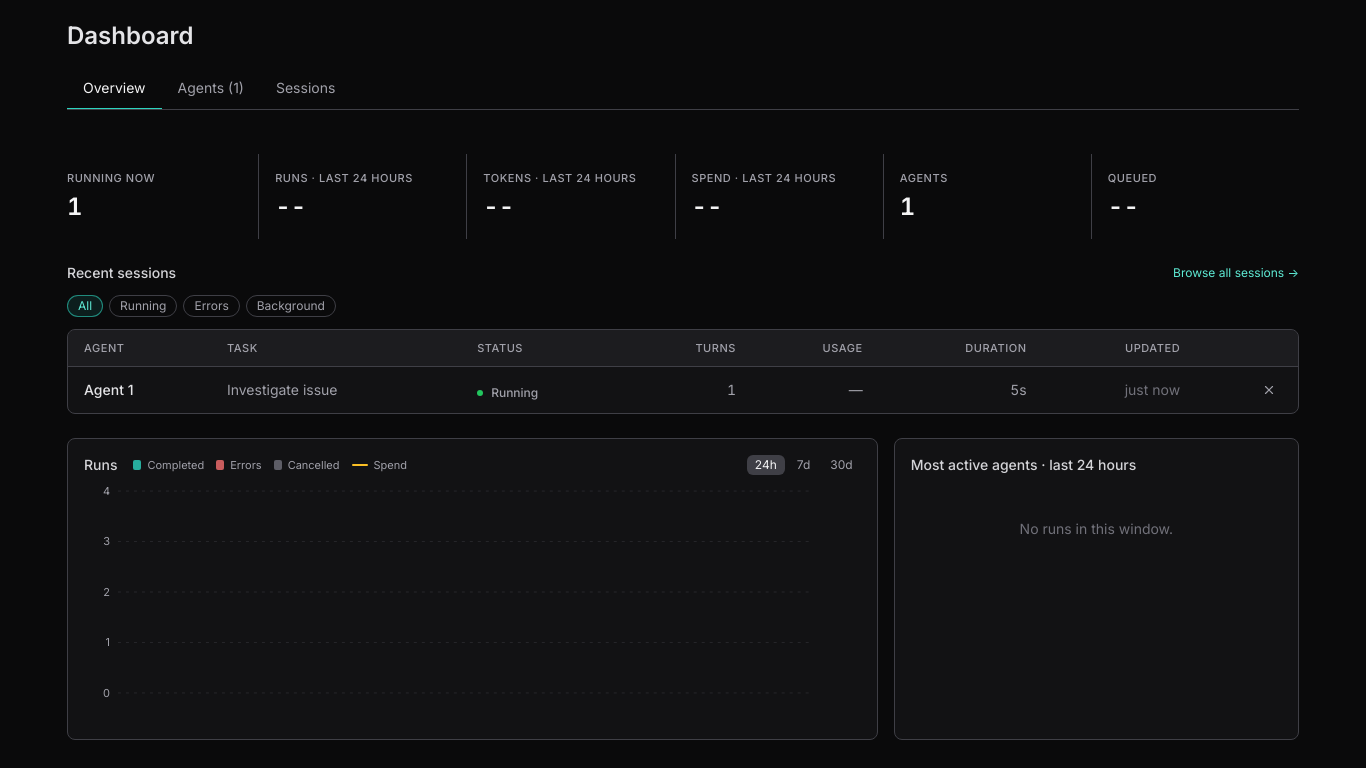
Scenario: DashboardPage › switches to the sessions tab and loads the session browser
This screenshot has width=1366, height=768.
Click the button with test id "dashboard-tab-sessions" at {"x": 306, "y": 89}, box top-left (260, 68), bottom-right (351, 110)
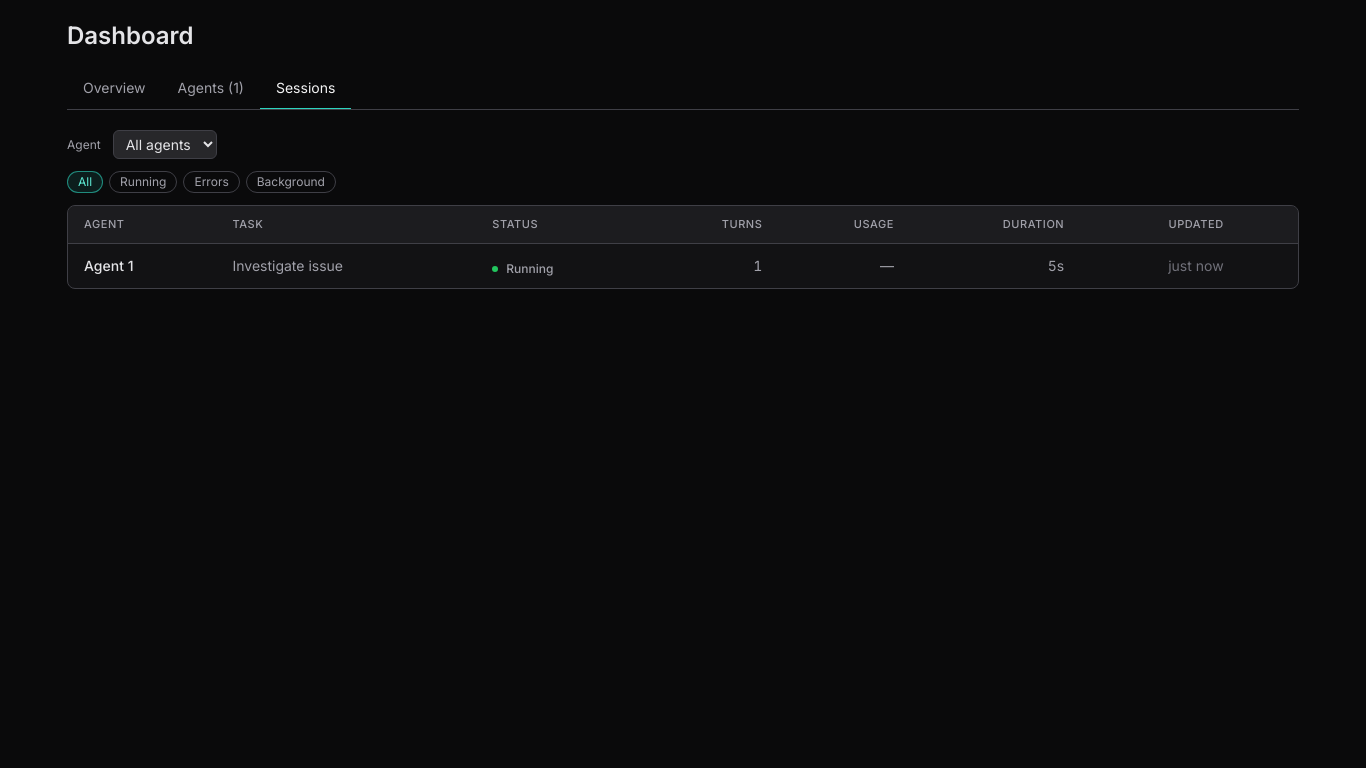
Result: the element with test id "sessions-tab" is shown at top-left (67, 130), bottom-right (1299, 288)
